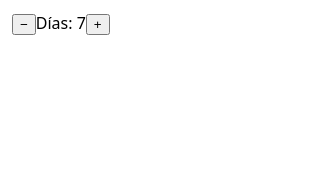
Test: SelectorDias › el botón de más suma un día y el de menos resta un día
Click the button named "Más días". click: x=98, y=24
box: [86,14,110,35]
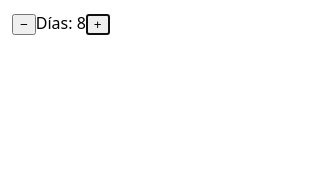
expect the text "Días: 8" is shown: met, box [36,12,86,34]
expect the text "Días: 7" is gone: met
Click the button named "Menos días". click: x=24, y=24
box: [12,14,36,35]
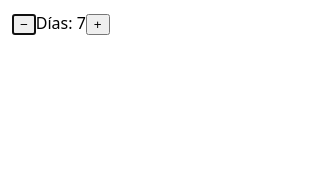
expect the text "Días: 7" is shown: met, box [36,12,86,34]
expect the text "Días: 8" is gone: met
